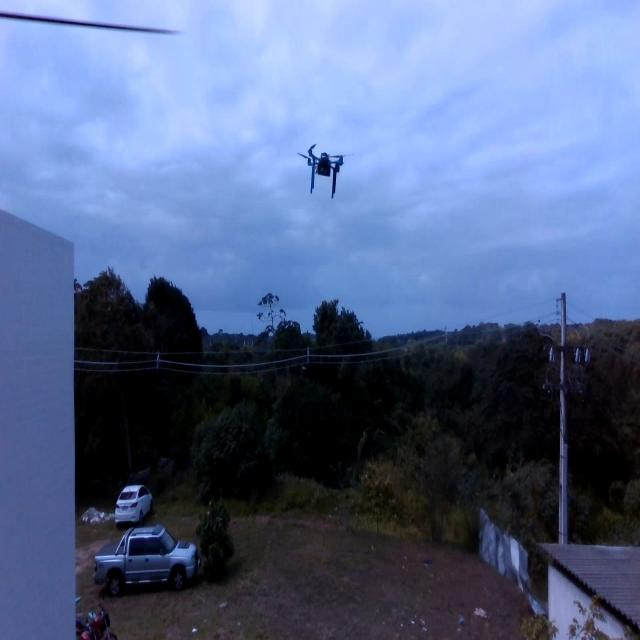-uav-: (292, 136, 358, 204)
